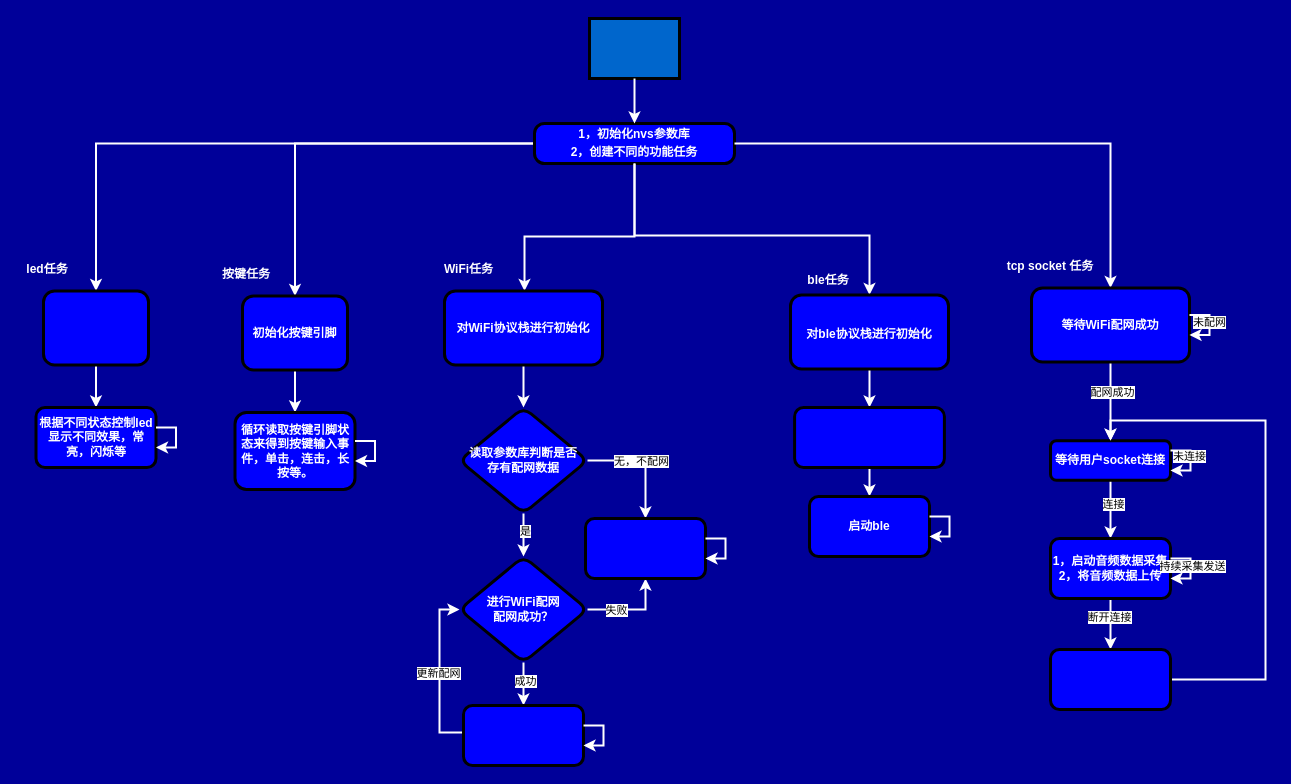
Some shapes in this 1291 by 784 pixel diagram are drawn without their labels. The shapes that lost their labels are listed below. From the top down, each one's centre as x and y in pixels, then its label:
pixel 634 48: BS01 app start
pixel 96 327: 初始化led引脚
pixel 869 437: 设置相应的uuid参数用来给用户设置配网参数。
pixel 645 548: 等待配网
pixel 1110 679: 停止音频数据采集和上传
pixel 523 735: 判断是否有新的配网参数（更新WiFi）
